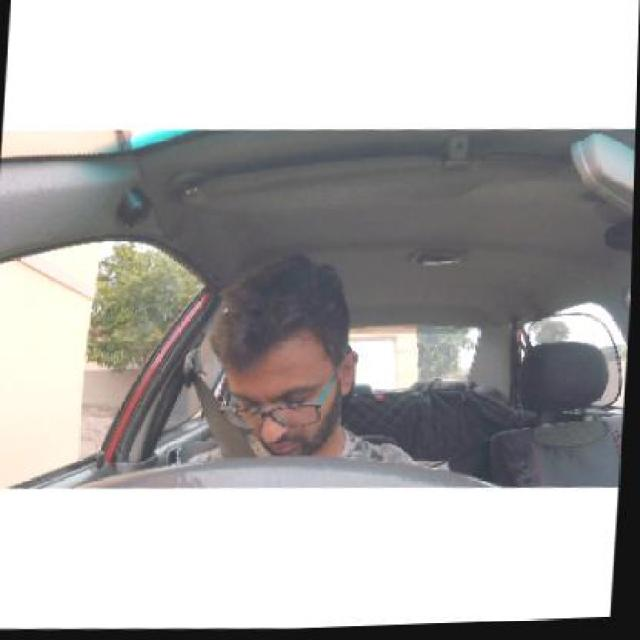drowsy: (209, 243, 365, 482)
